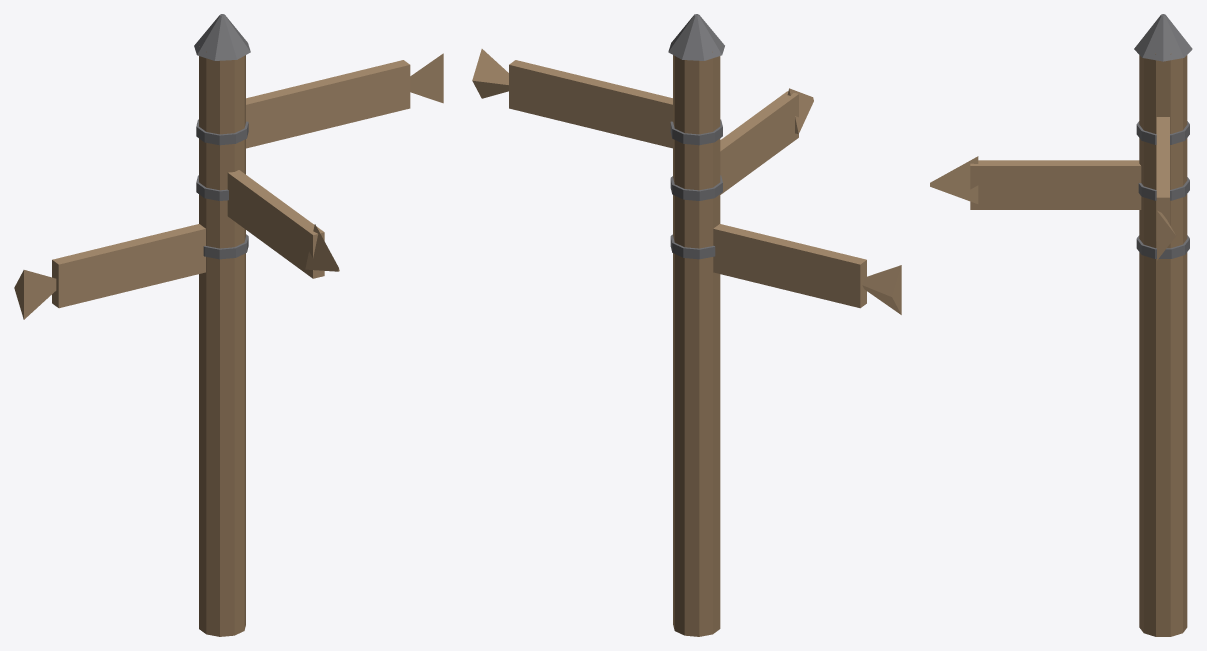
The model's file is road_signpost.glb.
The picture shows the model from 3 angles, left to right: view 1: azimuth 30°, elevation 25°; view 2: azimuth 150°, elevation 25°; view 3: azimuth 270°, elevation 25°; orthographic projection.
Visible parts, largest first — view 1: Cylinder, Cube, Cube.002, Cube.001, Cone, Cone.003, Cone.001, Cone.002, Cylinder.003; view 2: Cylinder, Cube, Cube.002, Cube.001, Cone, Cone.003, Cone.001, Cylinder.002, Cylinder.003; view 3: Cylinder, Cube.001, Cone, Cube, Cone.002, Cylinder.001, Cone.001, Cylinder.003, Cylinder.002.
Boxes of the visible parts, x1,y1,x2,y2 form: Cylinder: (199, 46, 245, 636); Cube: (246, 60, 410, 148); Cube.002: (52, 224, 205, 308); Cube.001: (227, 170, 324, 278); Cone: (194, 14, 250, 60); Cone.003: (14, 270, 56, 319); Cone.001: (410, 53, 443, 103); Cone.002: (305, 224, 339, 271); Cylinder.003: (196, 119, 248, 145); Cylinder: (673, 42, 720, 636); Cube: (509, 60, 672, 148); Cube.002: (713, 224, 866, 308); Cube.001: (720, 91, 798, 194); Cone: (668, 14, 724, 60); Cone.003: (862, 265, 901, 314); Cone.001: (472, 49, 508, 98); Cylinder.002: (670, 175, 722, 200); Cylinder.003: (670, 119, 722, 145); Cylinder: (1139, 53, 1187, 636); Cube.001: (970, 160, 1141, 209); Cone: (1134, 14, 1192, 61); Cube: (1156, 117, 1169, 240); Cone.002: (930, 156, 978, 203); Cylinder.001: (1136, 235, 1189, 258); Cone.001: (1157, 210, 1175, 260); Cylinder.003: (1136, 121, 1189, 144); Cylinder.002: (1138, 177, 1189, 200).
Bounding box in the file's own units: 1.81 × 2.52 × 0.98.
